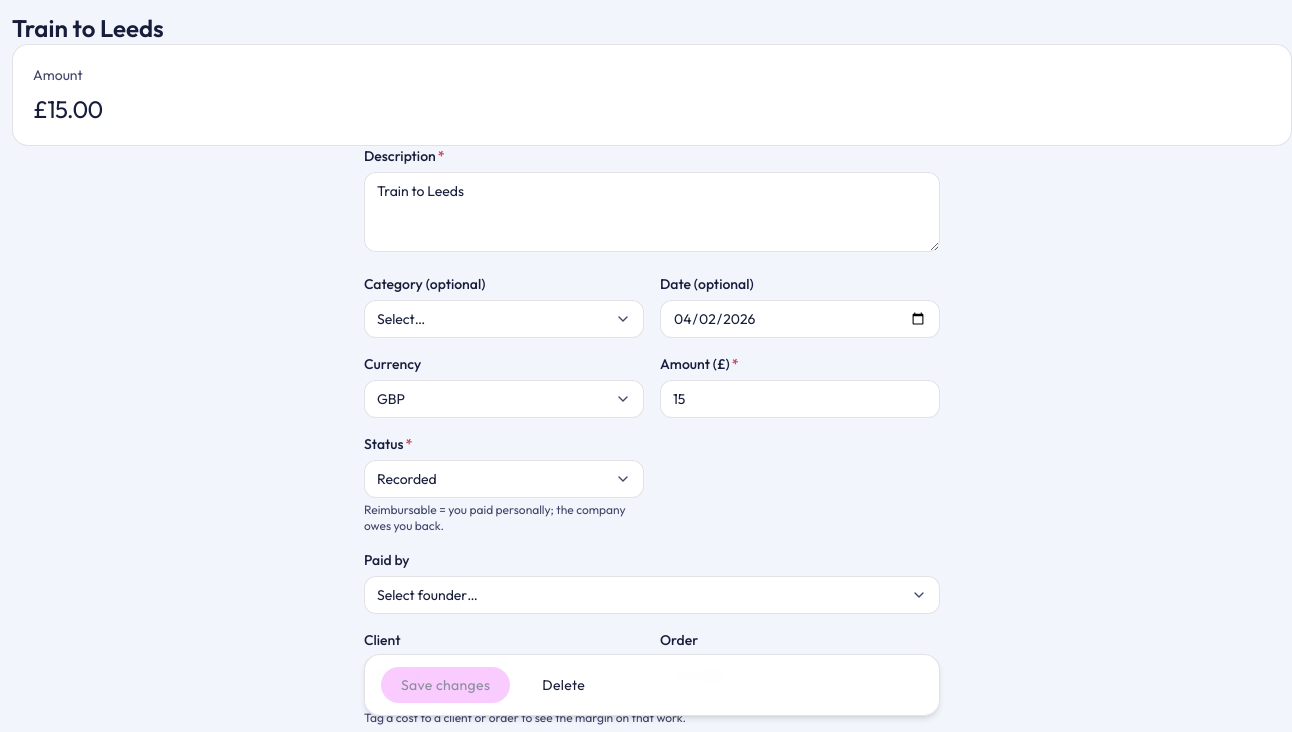
Test case: expense page header › shows the amount as you type, and a dash when it isn't a number
Expected: the text "£15.00" is shown, [33,94,103,124]
Replace the text in the field labelled "Amount (£)*" with "42.10" at {"x": 800, "y": 399}, box [660,380,940,418]
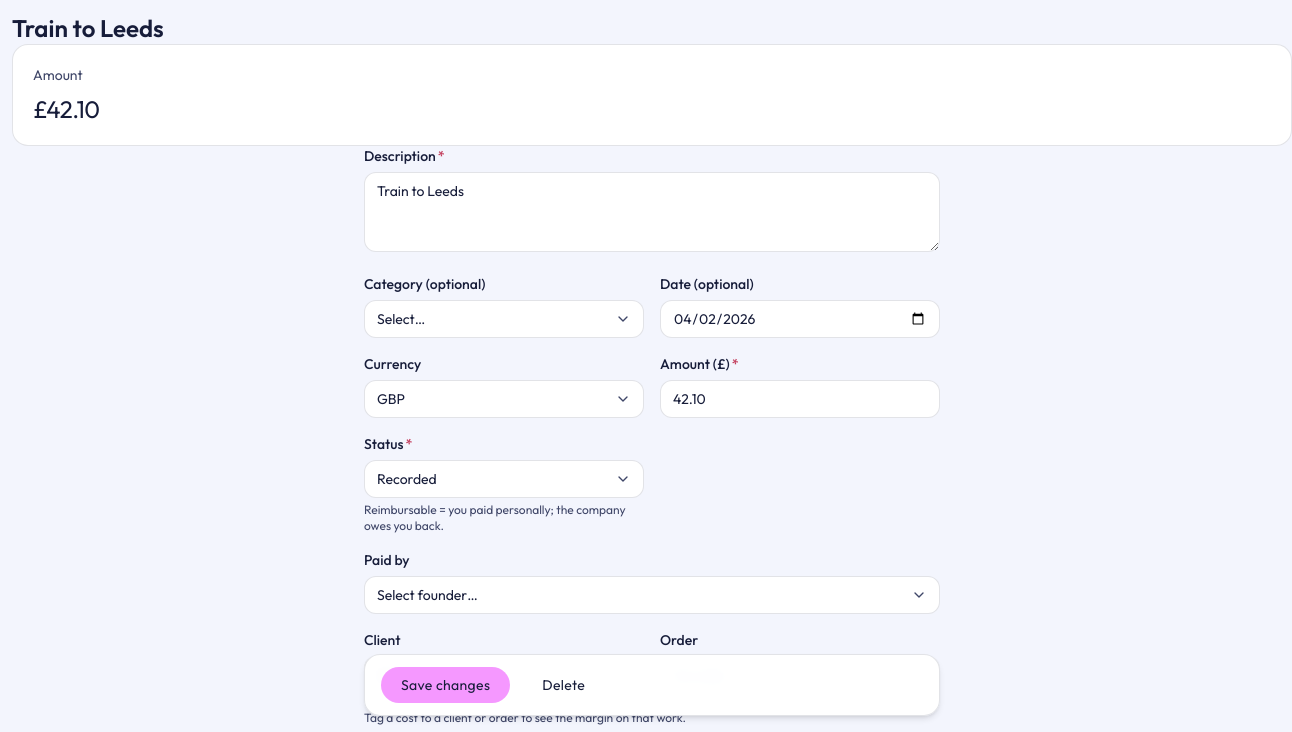
Result: the text "£42.10" is shown at [33,94,99,124]
Replace the text in the field labelled "Amount (£)*" with "abc" at {"x": 800, "y": 399}, box [660,380,940,418]
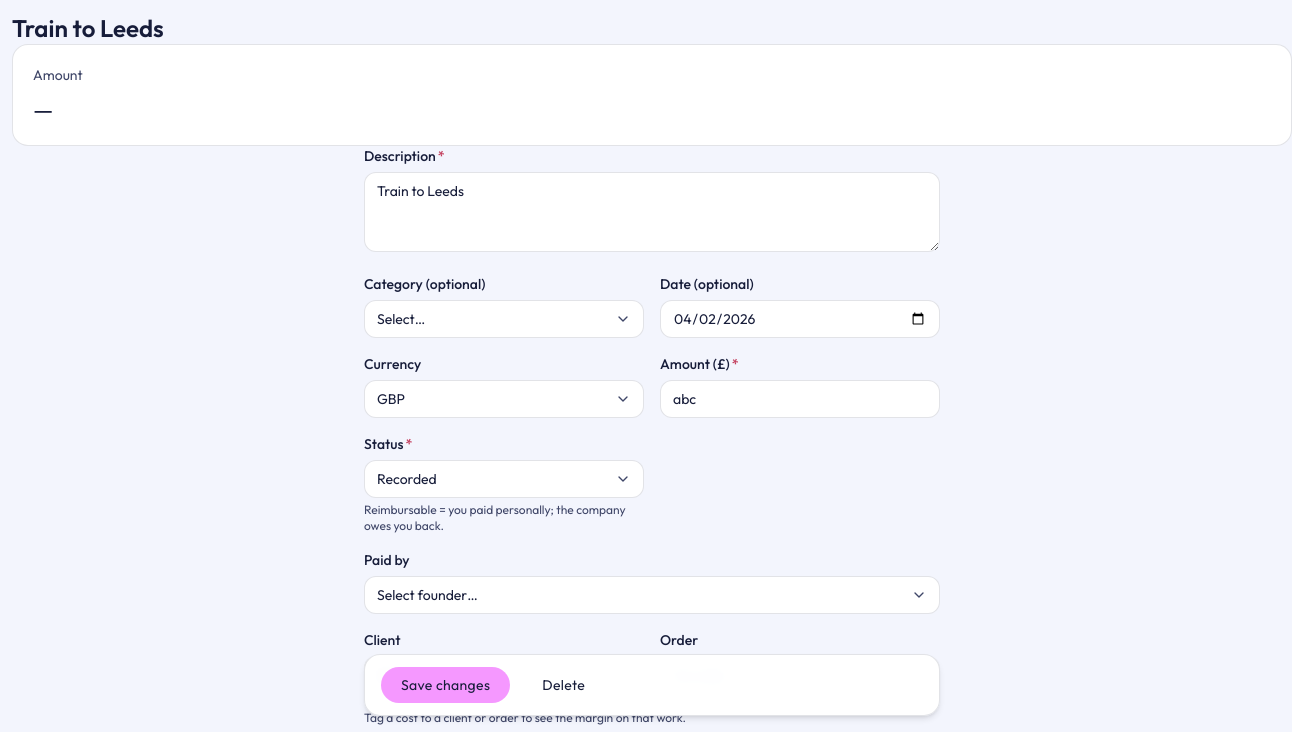
Result: the text "—" is shown at [33,94,53,124]
